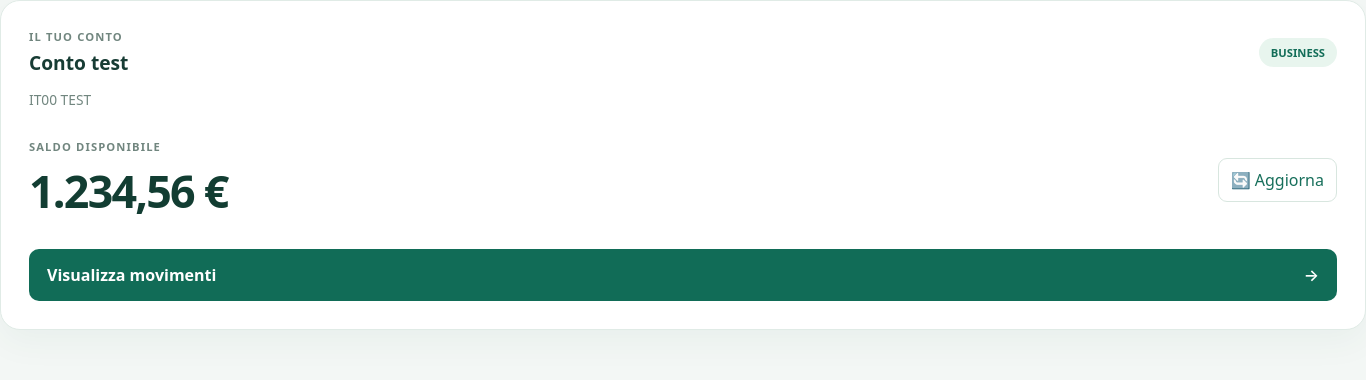
Test: AccountBalanceCard › reports refresh failures and allows retrying
Click the button with aria-label "Aggiorna saldo Conto test" at (1277, 180), box [1218, 158, 1337, 202]
Wait 1000 ms
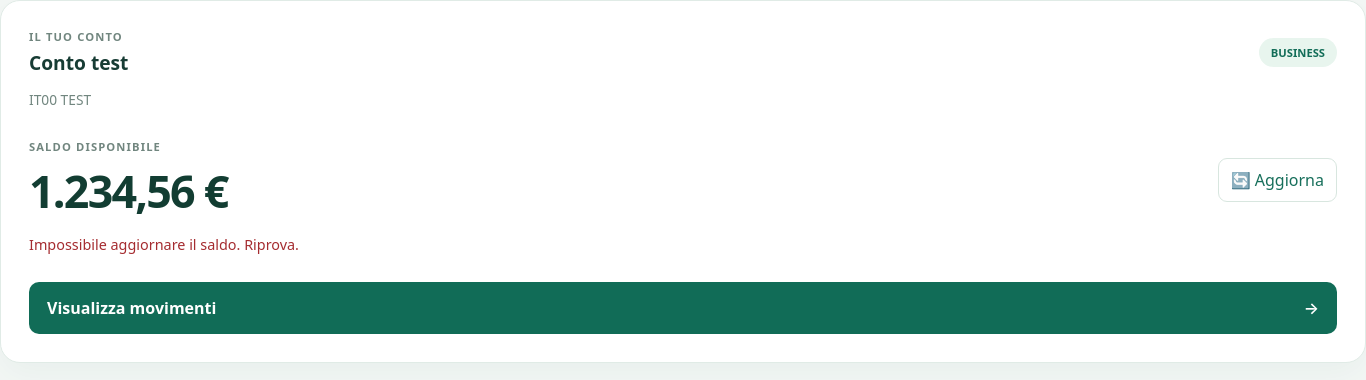
Now the message shows "Impossibile aggiornare", box [29, 235, 299, 254]
